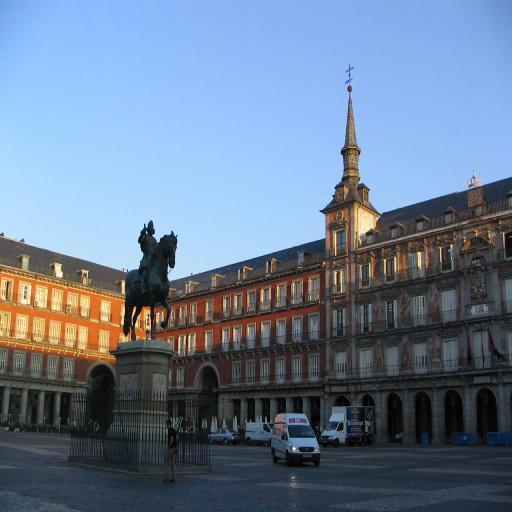horse: (120, 232, 180, 344)
